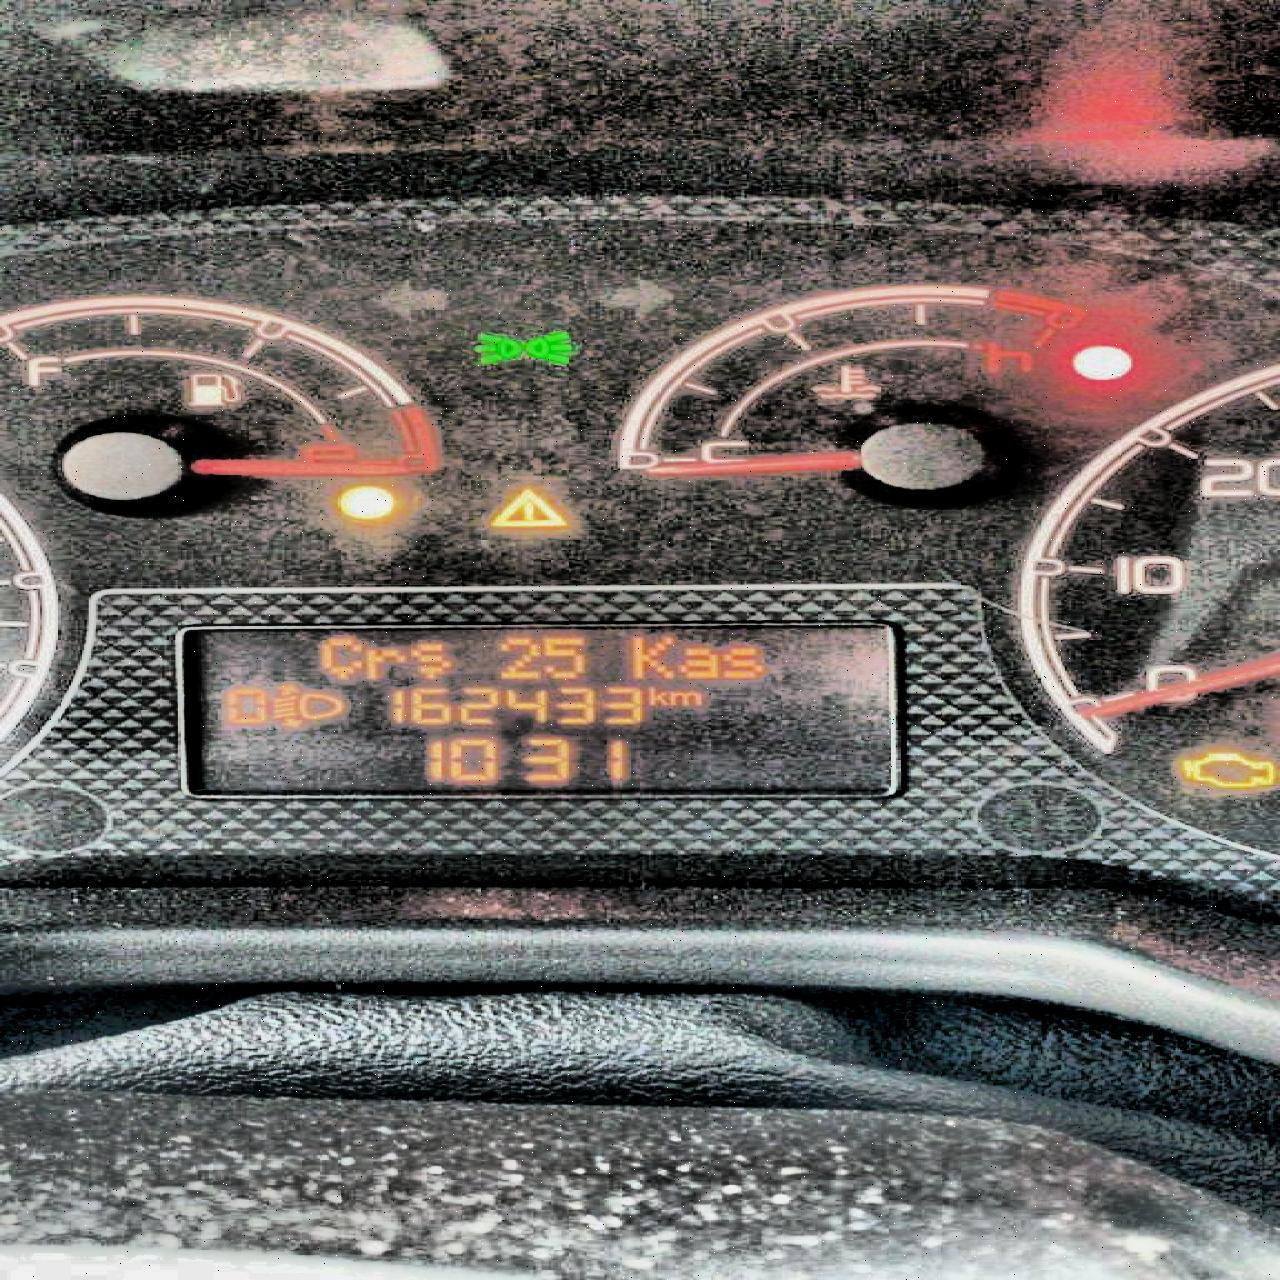0: (447, 737, 496, 782), (223, 686, 267, 723)
1: (605, 737, 625, 778), (424, 738, 443, 779), (389, 688, 404, 722)
2: (496, 636, 538, 679), (456, 686, 497, 723)
3: (520, 736, 568, 779), (600, 685, 642, 724), (553, 686, 593, 723)
4: (502, 688, 546, 722)
5: (540, 636, 587, 679)
6: (409, 688, 451, 723)
X: (628, 635, 675, 679), (318, 638, 362, 679), (407, 642, 449, 679), (362, 647, 404, 679), (675, 647, 717, 679), (720, 646, 760, 679), (667, 690, 700, 704), (647, 686, 667, 704)
odometer: (176, 620, 903, 801)
